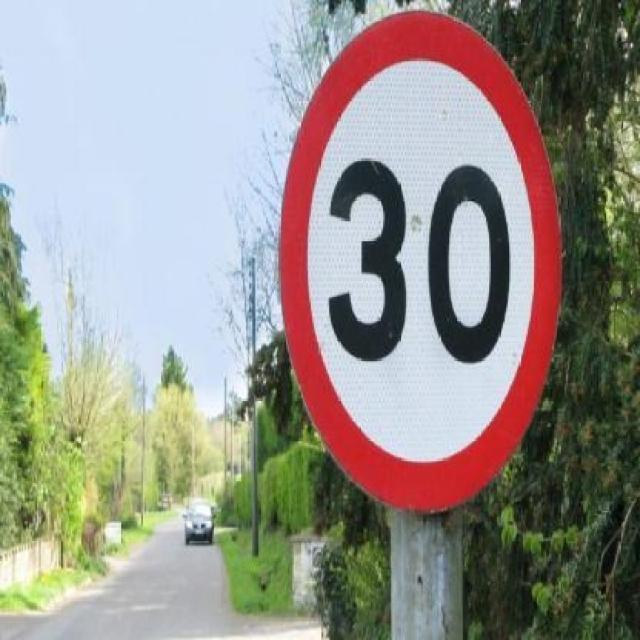forb_speed_over_30: (284, 8, 558, 508)
